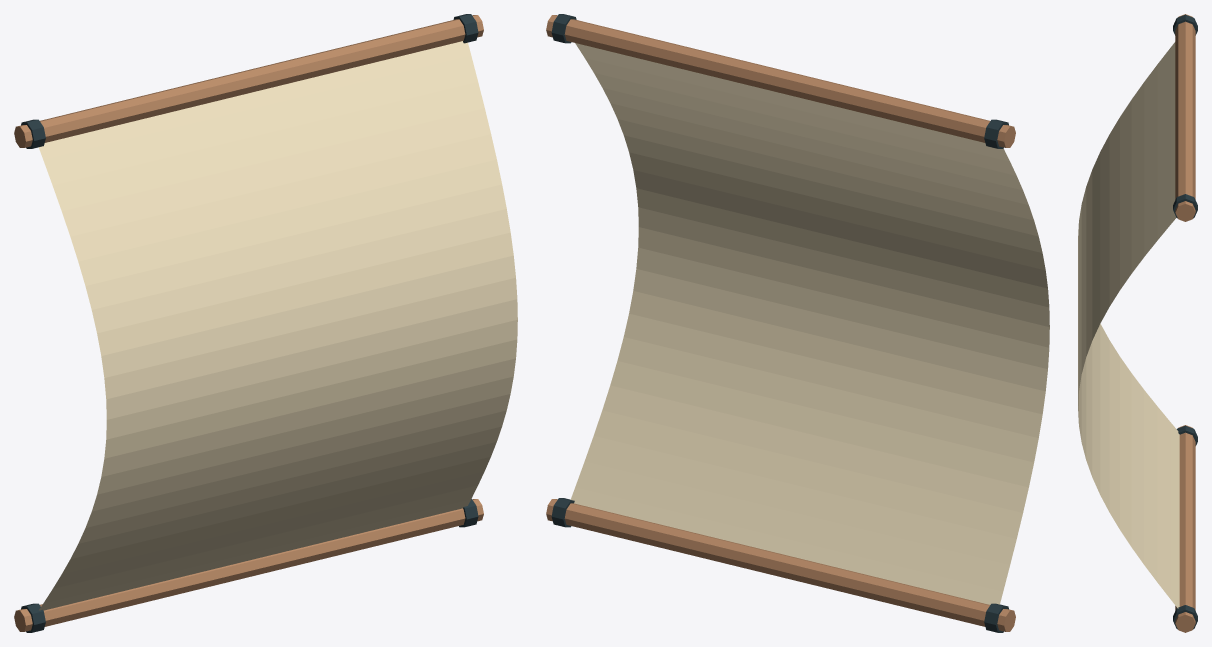
File: main_sail.glb
The picture shows the model from 3 angles, left to right: view 1: azimuth 30°, elevation 25°; view 2: azimuth 150°, elevation 25°; view 3: azimuth 270°, elevation 25°; orthographic projection. The views are drawn at different scales.
Parts seen in each view (by area): view 1: main_sail cloth square, main_sail yard, main_sail yard.001; view 2: main_sail cloth square, main_sail yard, main_sail yard.001; view 3: main_sail cloth square, main_sail yard, main_sail yard.001, Yard iron collar.001, Yard iron collar.003, Yard iron collar.
Boxes of the visible parts, x1,y1,x2,y2 form: main_sail cloth square: (38,41,517,610); main_sail yard: (14,15,483,147); main_sail yard.001: (14,499,483,631); main_sail cloth square: (570,43,1049,604); main_sail yard: (546,15,1015,147); main_sail yard.001: (546,499,1015,631); main_sail cloth square: (1078,42,1179,608); main_sail yard: (1175,14,1195,221); main_sail yard.001: (1175,425,1195,632); Yard iron collar.001: (1173,194,1197,218); Yard iron collar.003: (1173,605,1197,629); Yard iron collar: (1173,14,1197,35).
Size of the model in its own units: 4.68 by 4.98 by 1.25.
